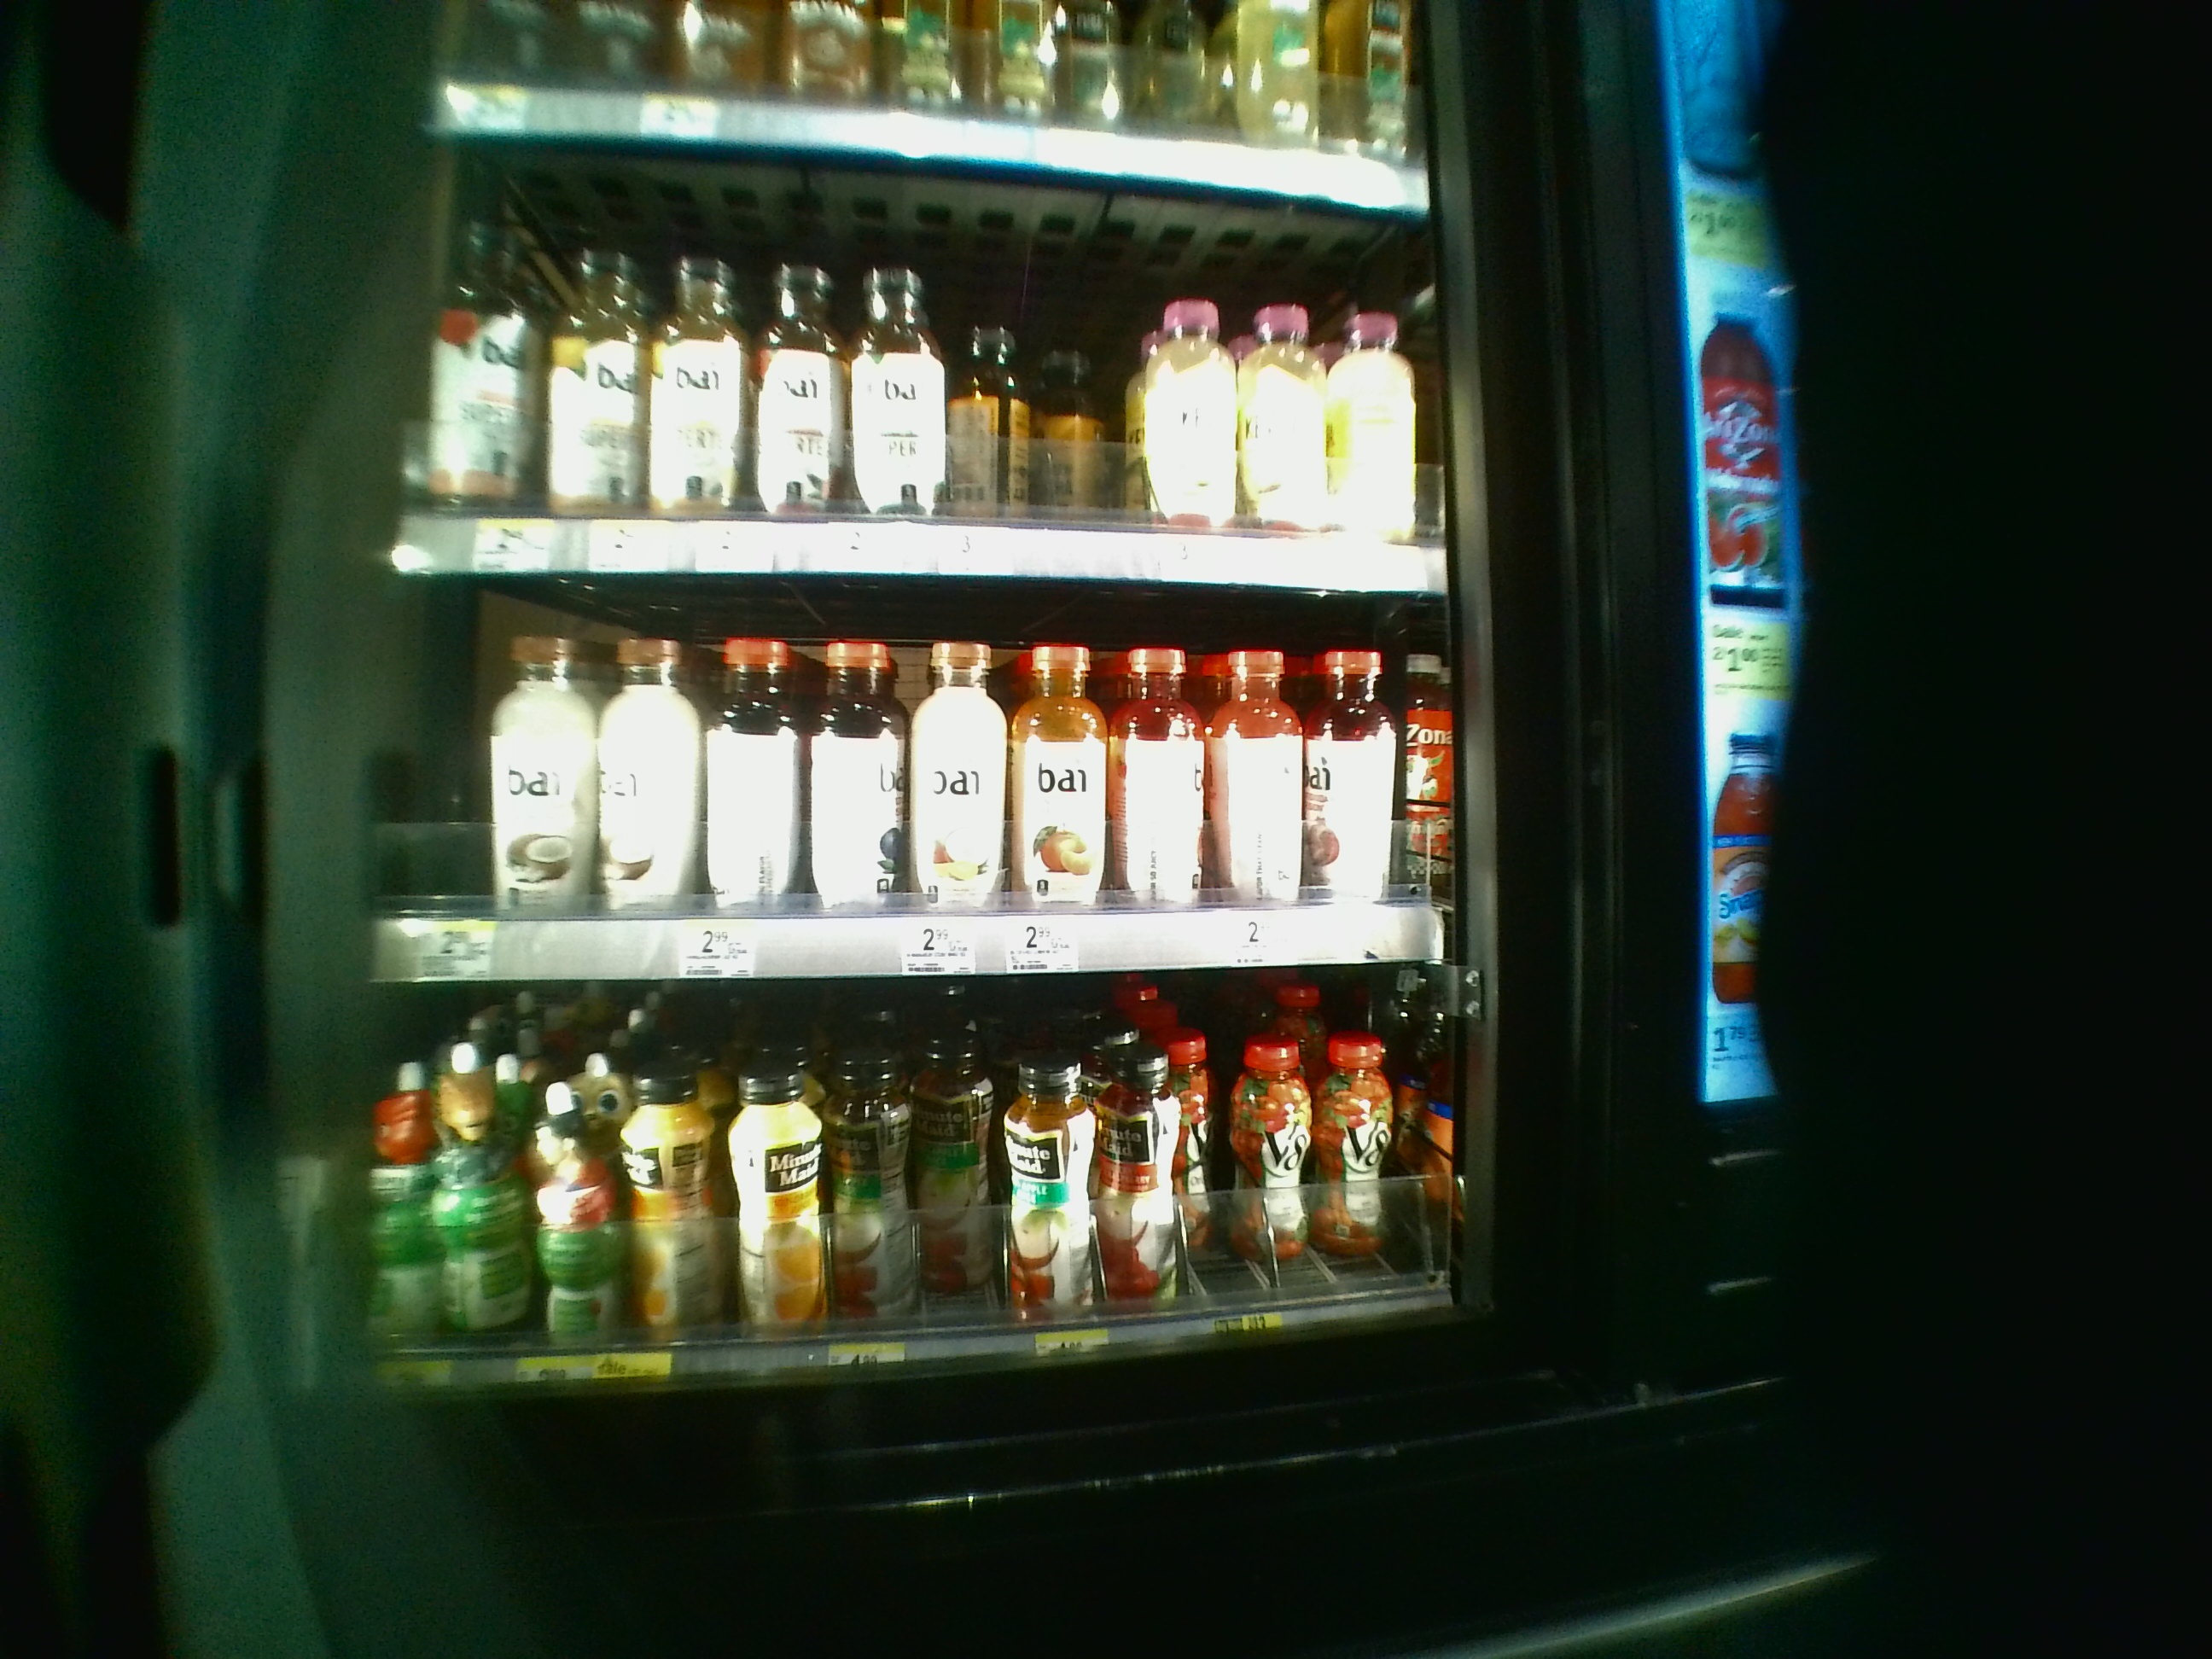shelf: (392, 129, 1456, 586), (369, 993, 1456, 1384), (371, 591, 1444, 974)
